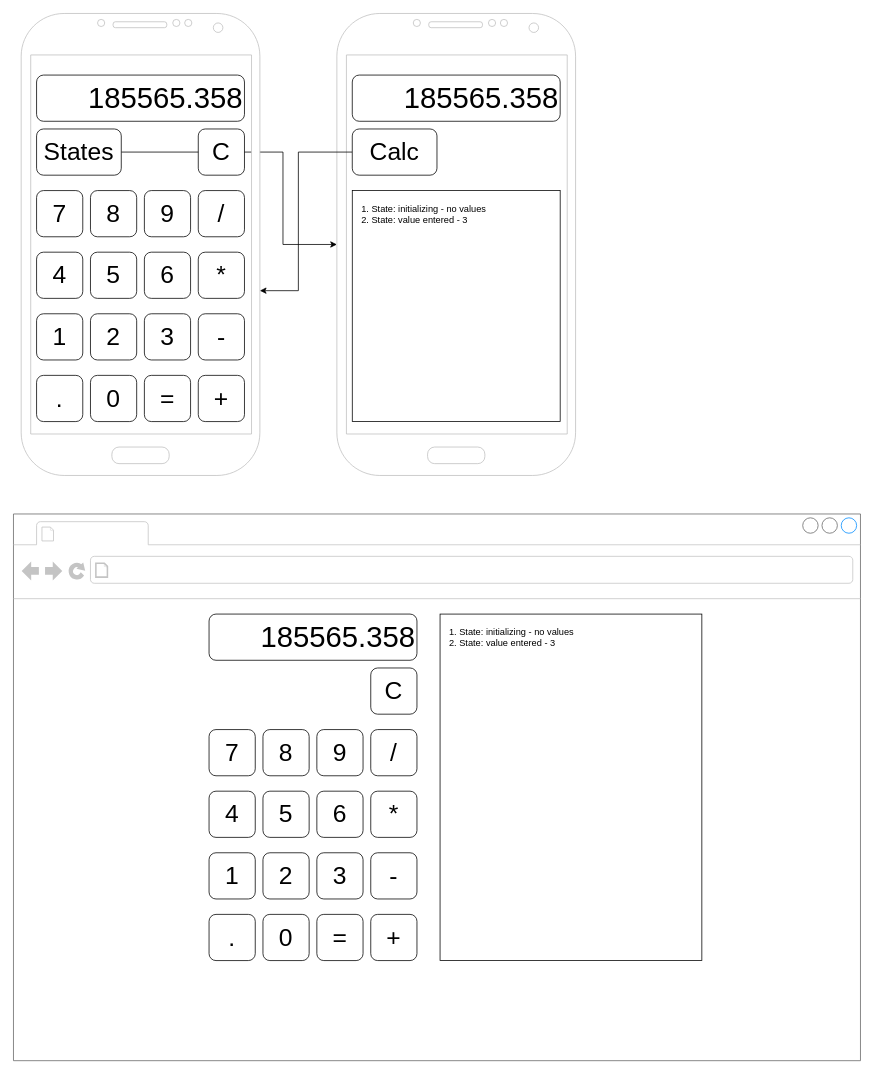
This 874x1074 diagram has some shape labels left out. The shapes that lost their labels are listed below. From the top down, each one's centre as x and y in pixels, then its label:
point 101,532: Page 1
point 263,567: https://react-redux-calculator.walnut-it.com
